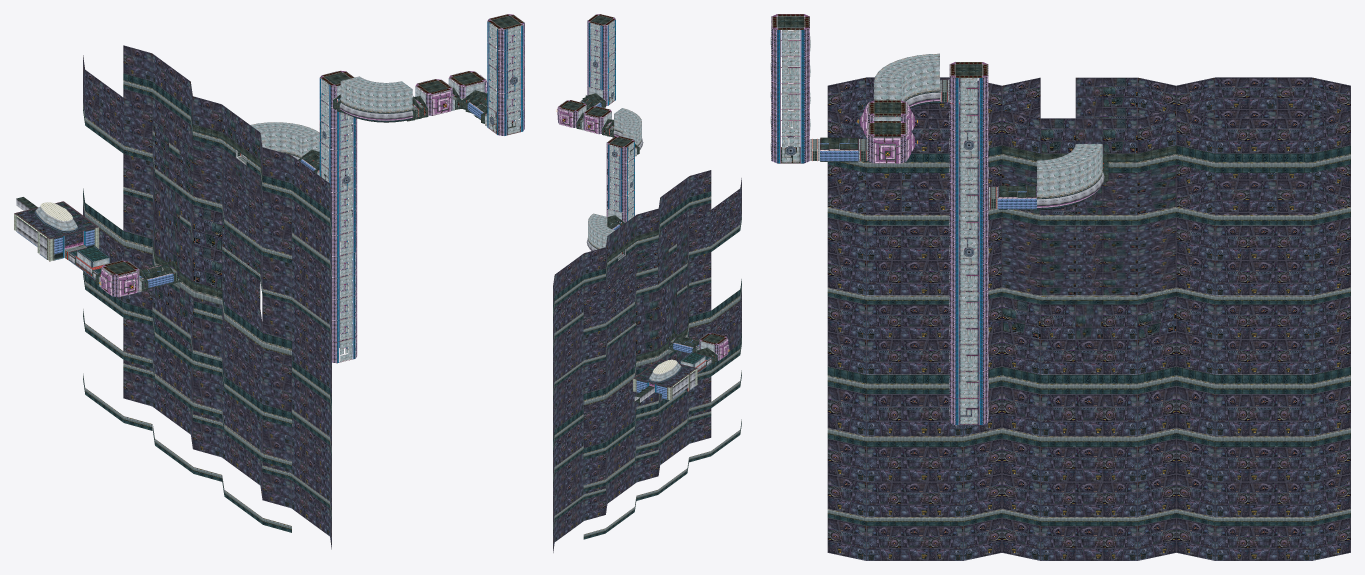
Rendered from CannonsCoreTails.obj.
3 views of the same model, side by side, from view 1: azimuth 30°, elevation 25°; view 2: azimuth 150°, elevation 25°; view 3: azimuth 270°, elevation 25° (orthographic). The views are drawn at different scales.
Bounding box in the file's own units: 2333 × 3577 × 2997.
36 materials, 36 textured.
